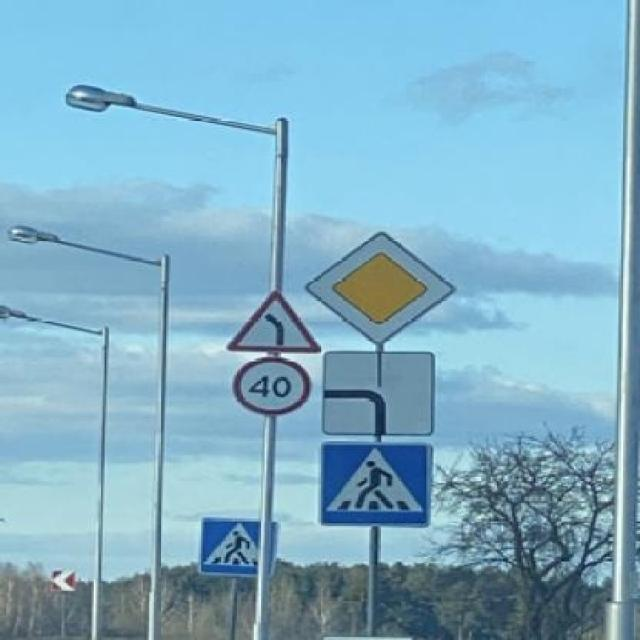forb_speed_over_40: (233, 358, 309, 416)
